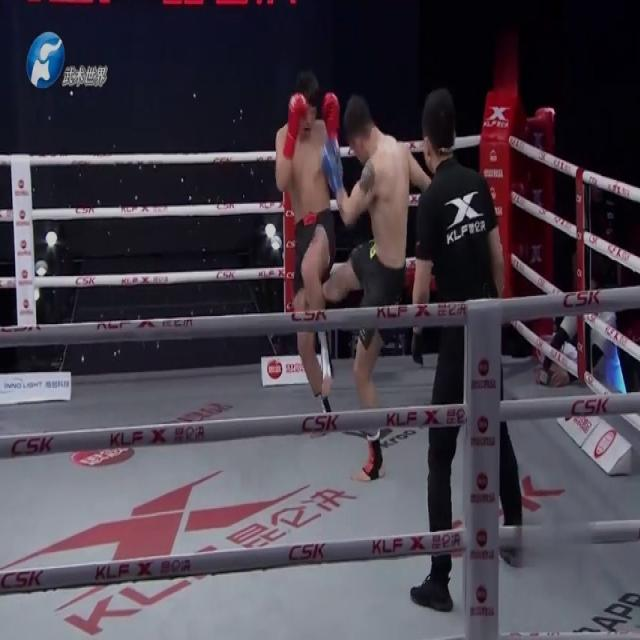fight: (268, 69, 425, 480)
non-fight: (402, 78, 524, 610)
